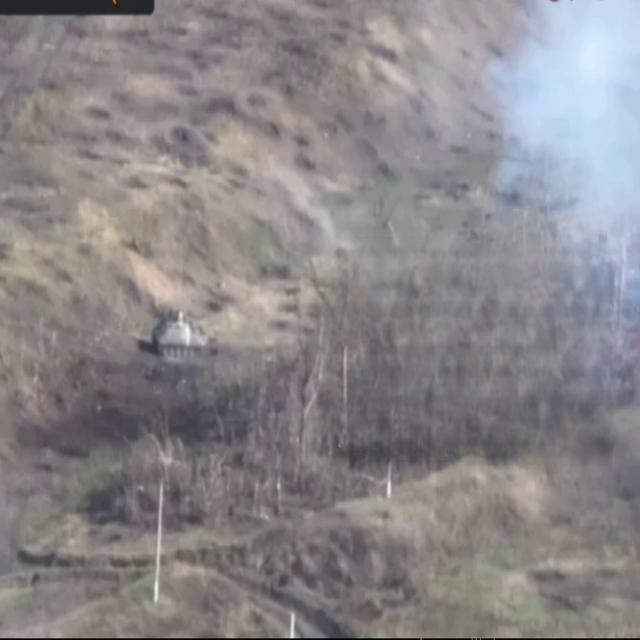APC: (152, 310, 217, 362)
